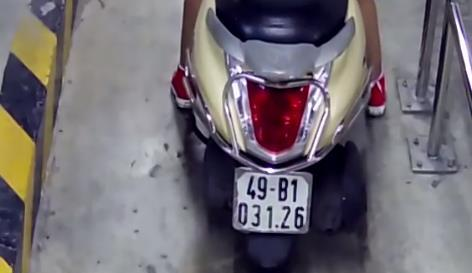lisence: (232, 169, 310, 233)
